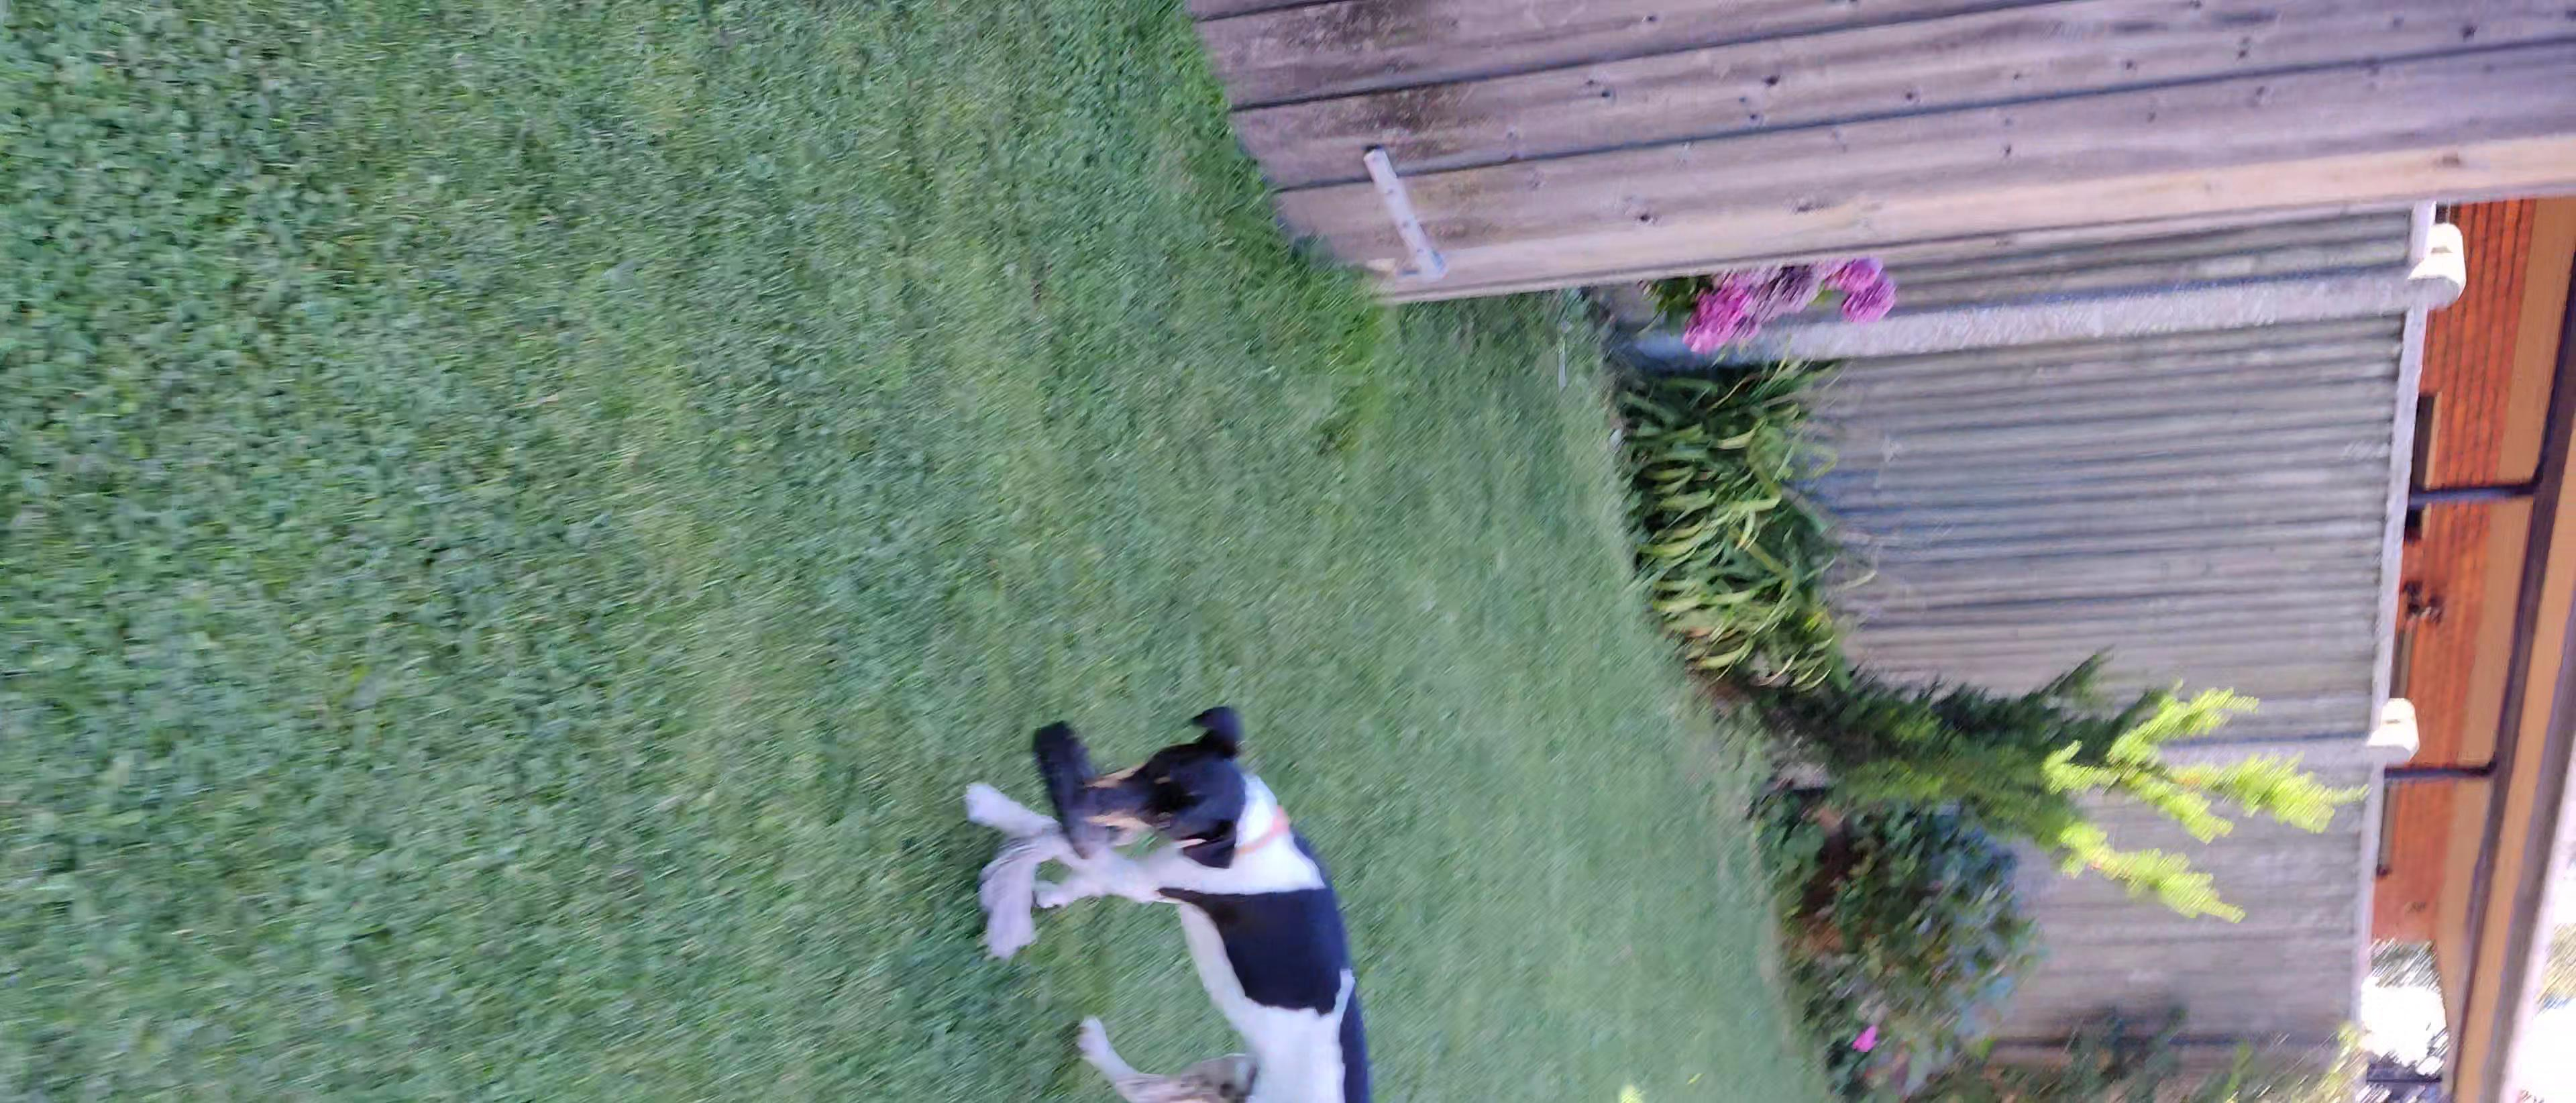Dog: (958, 699, 1387, 1103)
